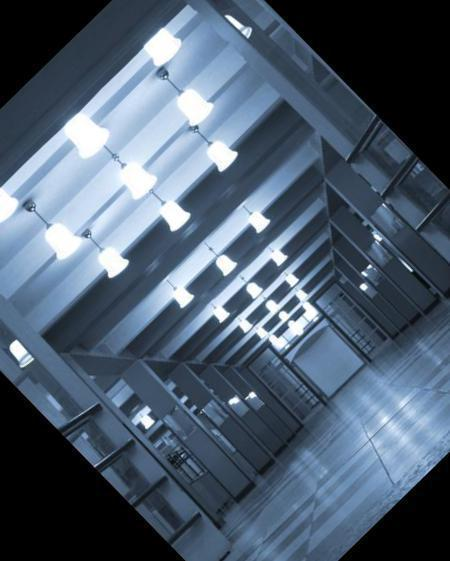Puerta: (180, 0, 450, 300), (0, 235, 235, 561), (245, 350, 325, 431), (311, 285, 390, 365)
